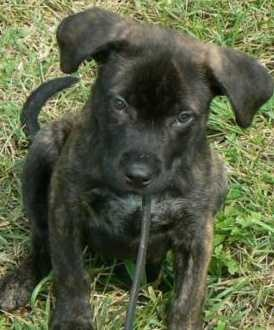dog: (14, 12, 217, 275)
